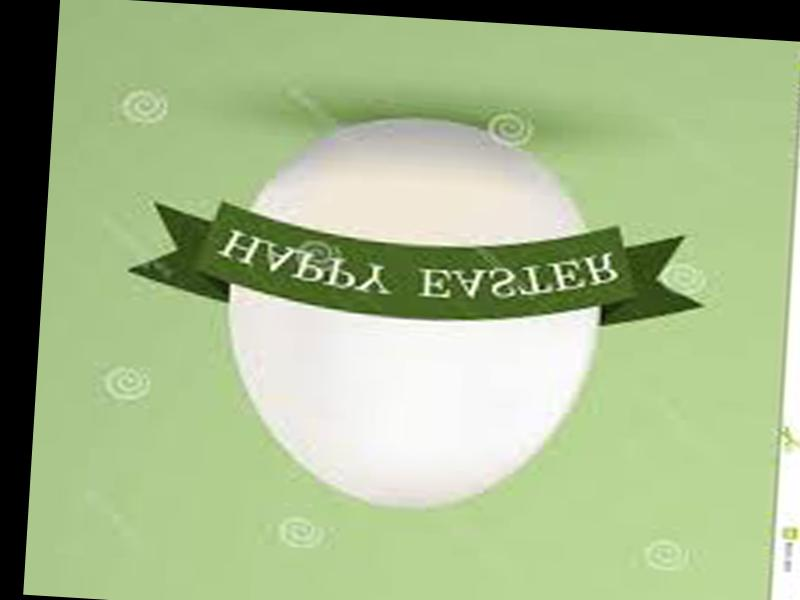Eggs: (221, 109, 612, 518)
